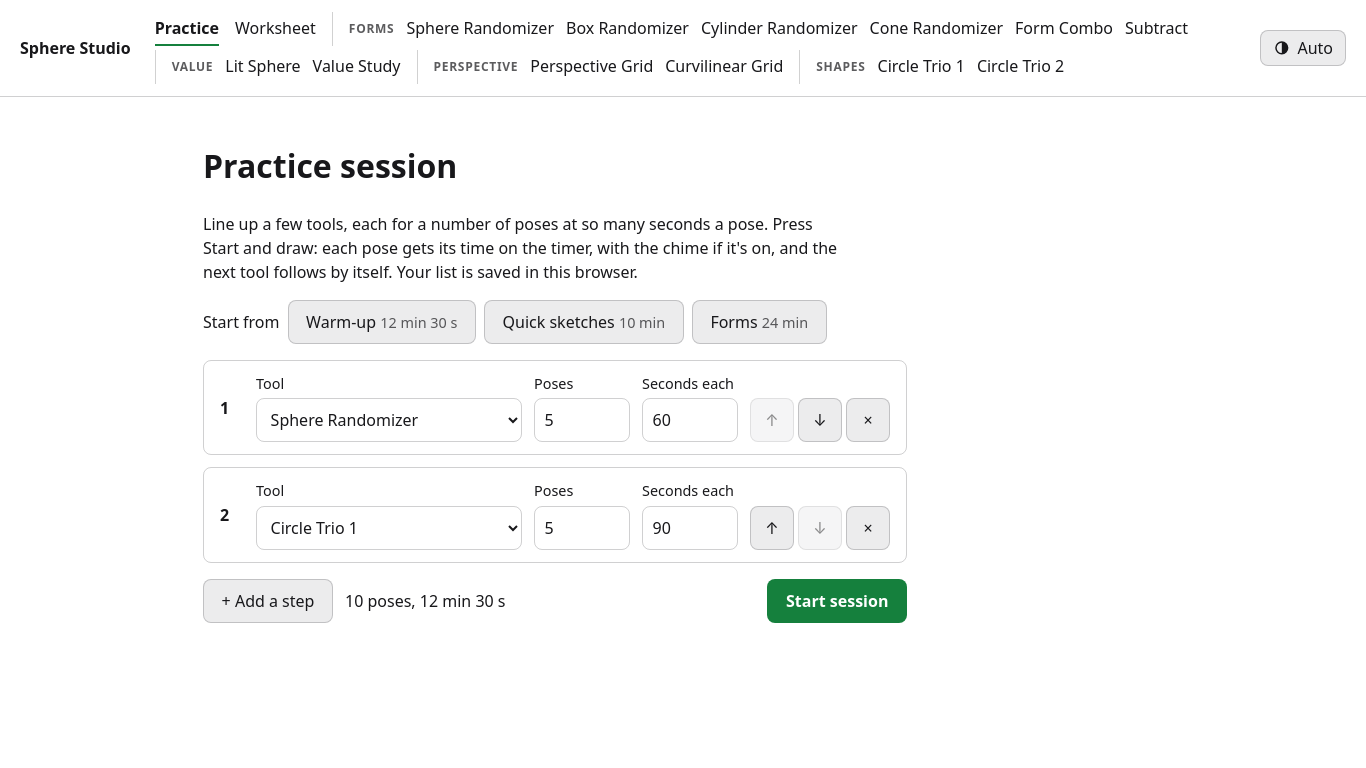
Test: putting a session together › adds, moves and removes steps, and loads presets
Step 1. Click the button "+ Add a step" → (268,601), box [203,579,333,623]
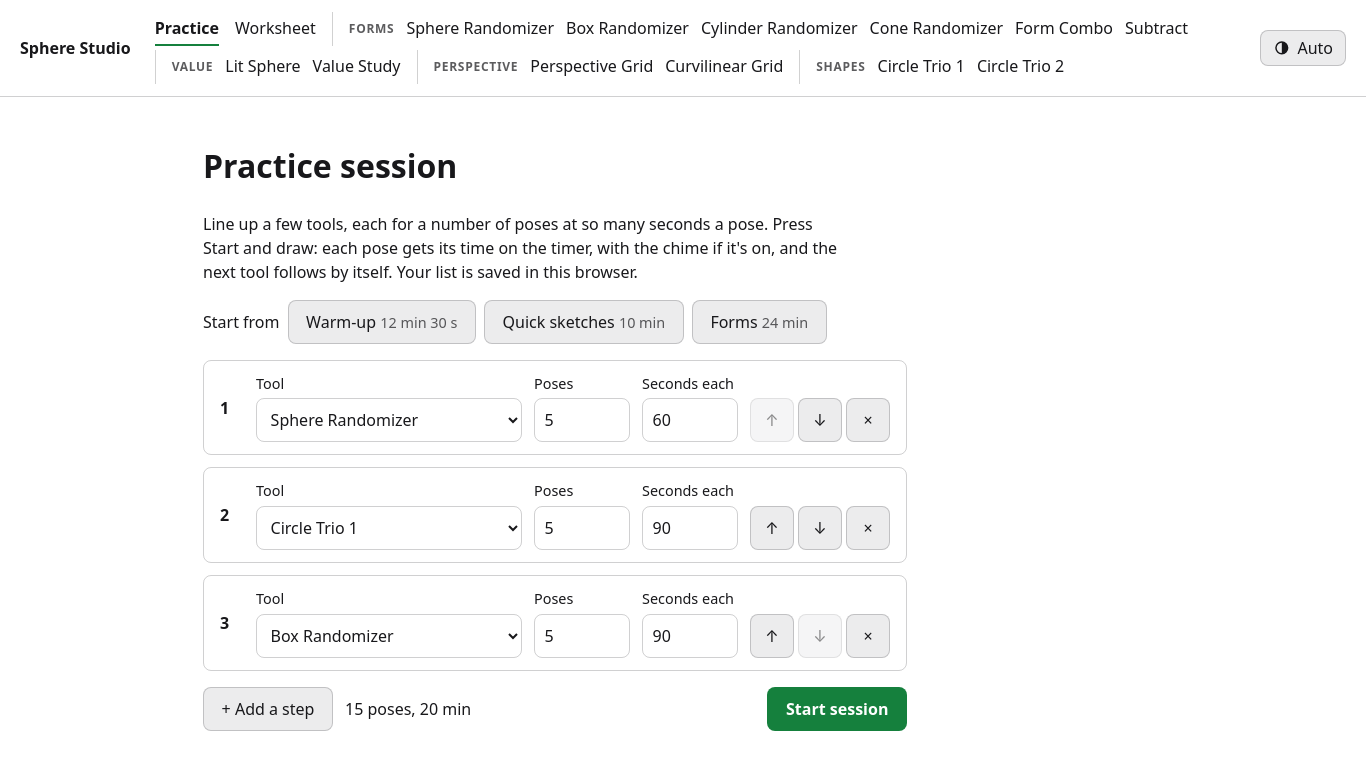
Expected: the number of list items is 3, [203,360,907,456]; [203,468,907,563]; [203,575,907,671]
Step 2. Click the button "Forms 24 min" → (759,322), box [692,300,827,344]
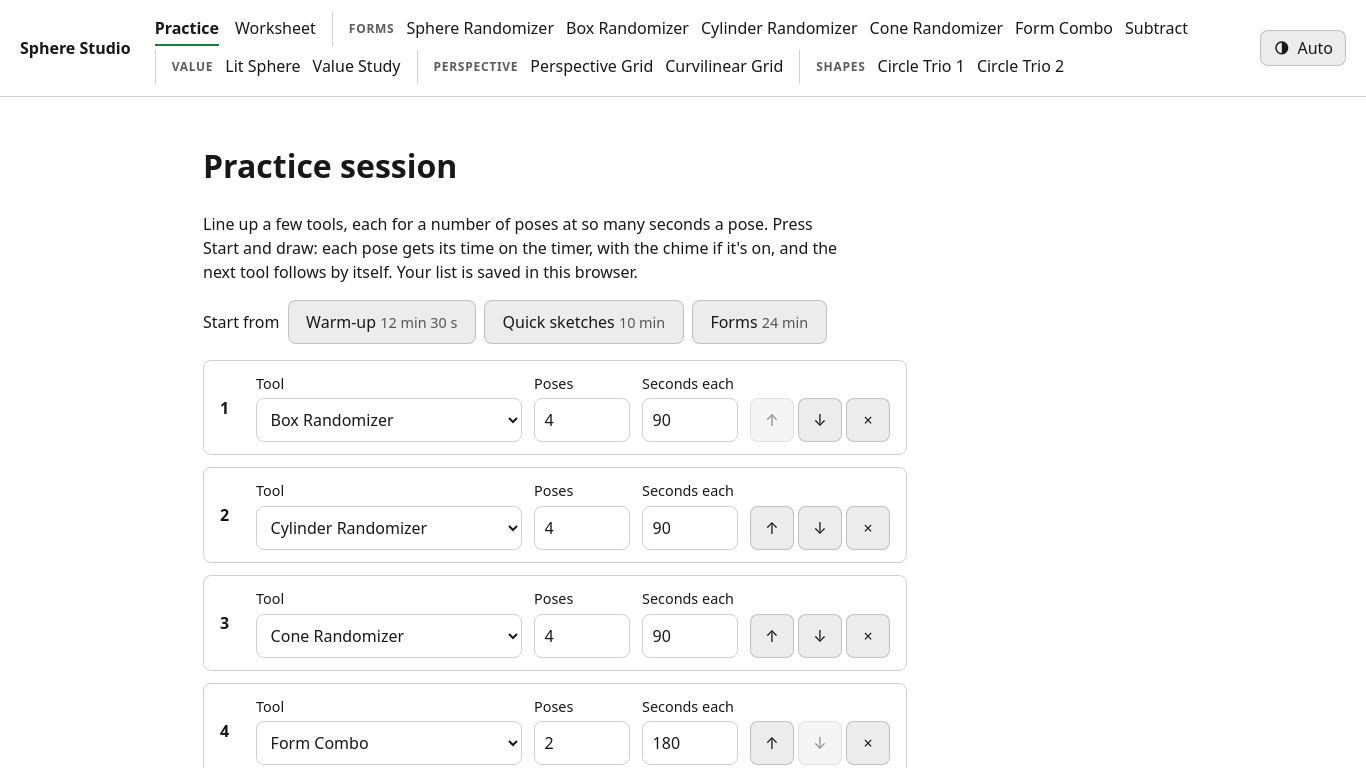
Step 3. Click the 1st button "↓" → (820,420), box [798,398,842,442]
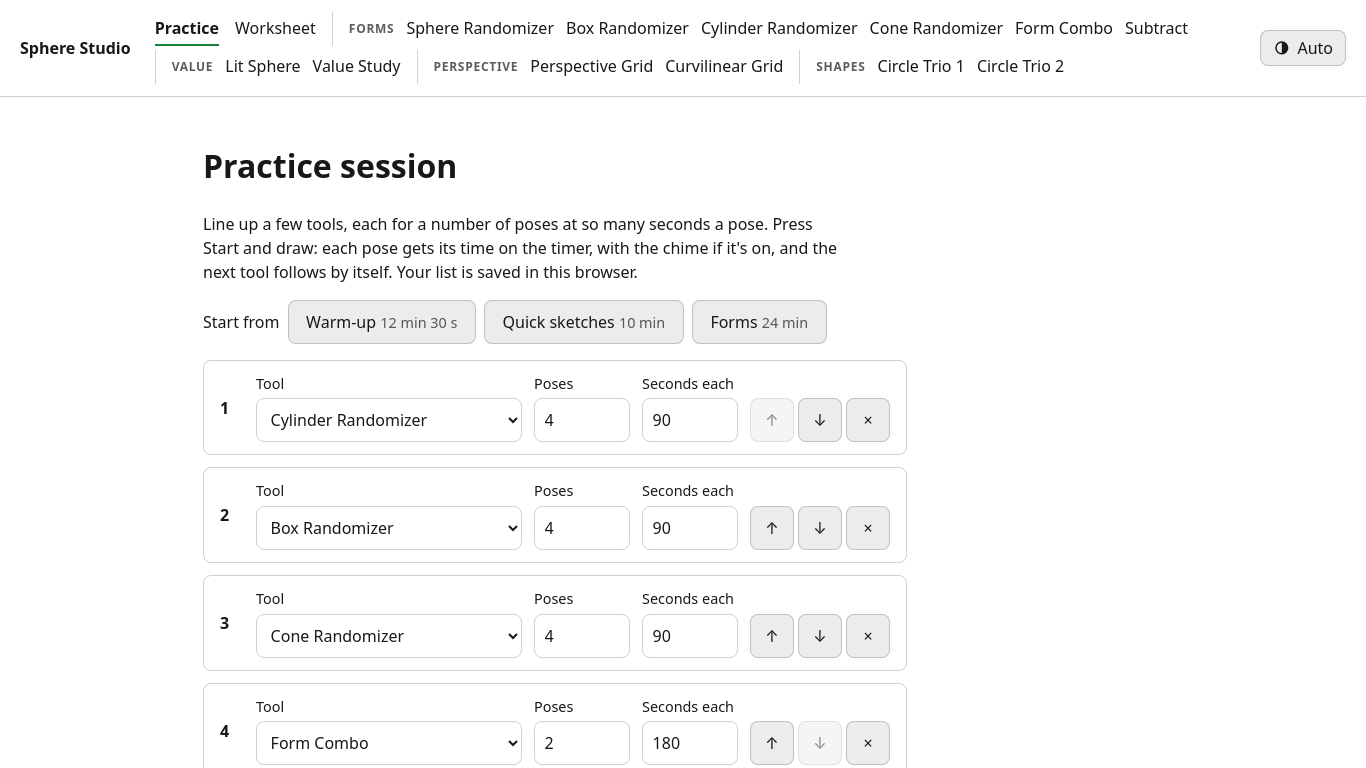
Step 4. Click the 1st button "×" → (868,420), box [846,398,890,442]
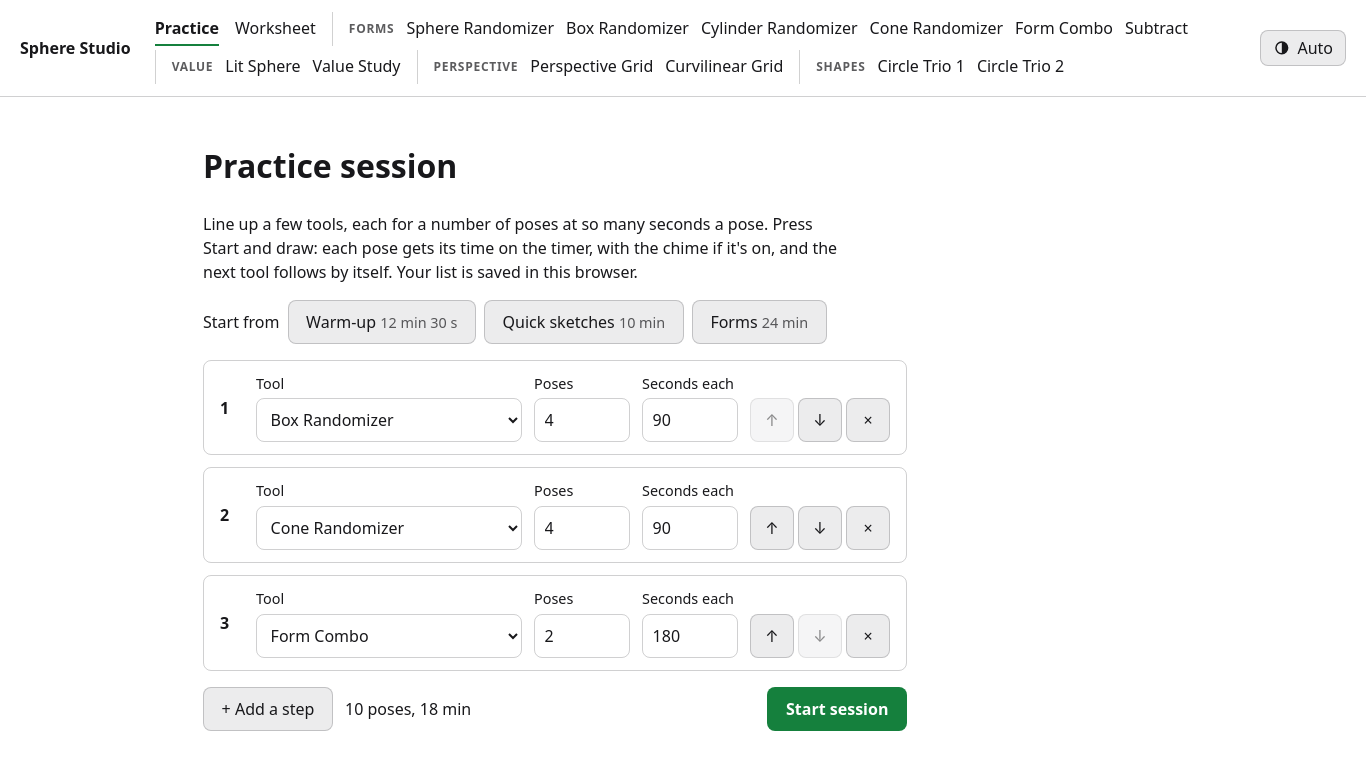
Expected: the number of list items is 3, [203,360,907,456]; [203,468,907,563]; [203,575,907,671]
